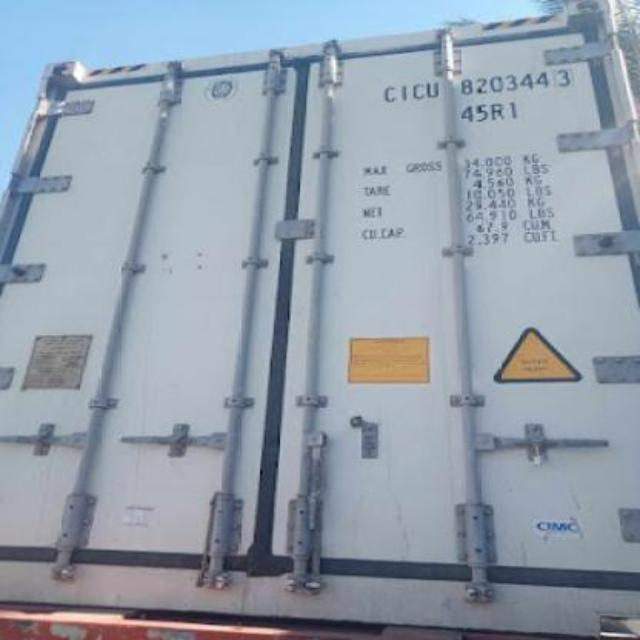0: (490, 75, 506, 95)
2: (474, 76, 488, 94)
3: (504, 70, 518, 92), (558, 69, 574, 87)
4: (534, 72, 554, 92), (520, 70, 536, 92)
8: (458, 78, 474, 96)
C: (374, 78, 398, 104), (412, 80, 424, 104)
I: (398, 82, 410, 105)
U: (430, 78, 440, 98)
